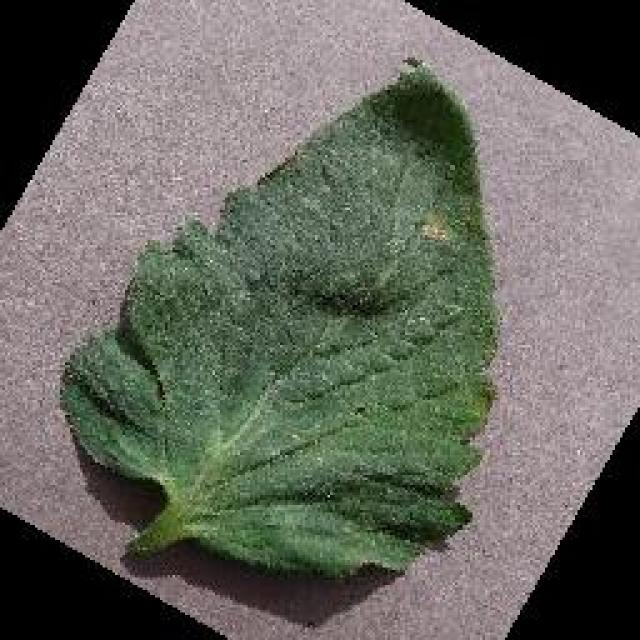Tomato___Target_Spot: (60, 62, 492, 568)
